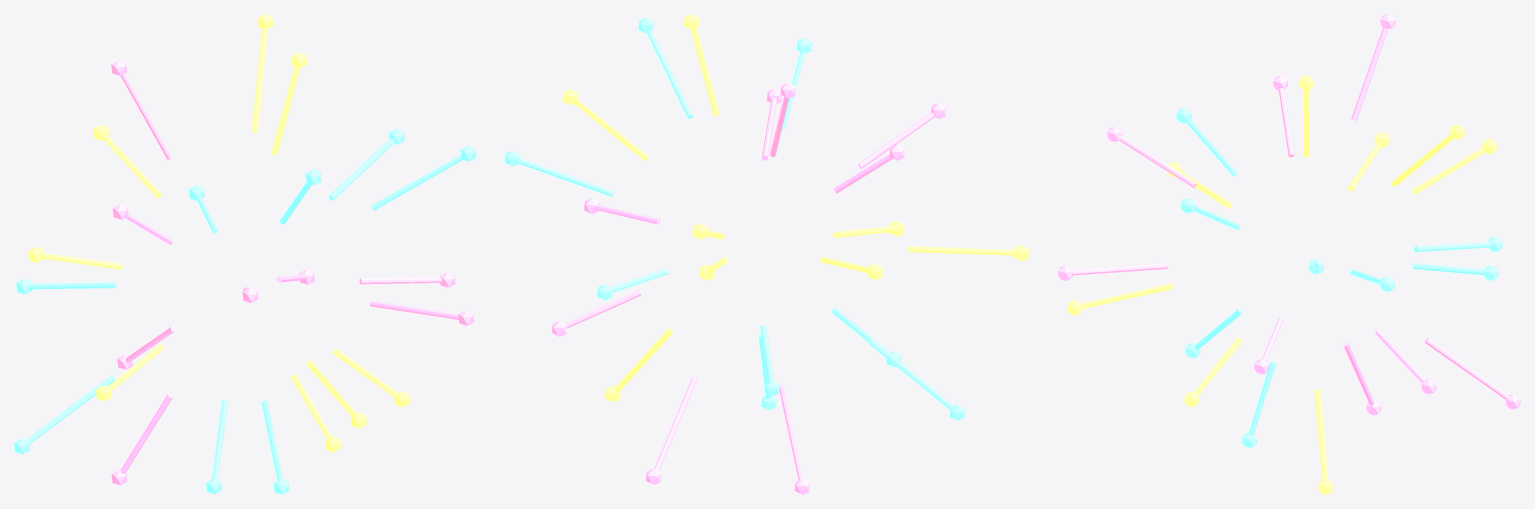
3 renders of one model, left to right at view 1: azimuth 30°, elevation 25°; view 2: azimuth 150°, elevation 25°; view 3: azimuth 270°, elevation 25°, orthographic. The views are drawn at different scales.
Parts seen in each view (by area): view 1: RE-079 Aurora celebration fireworks burst batched; view 2: RE-079 Aurora celebration fireworks burst batched; view 3: RE-079 Aurora celebration fireworks burst batched.
Part boxes in pixels (x1,y1,x2,y2): RE-079 Aurora celebration fireworks burst batched: [14, 14, 476, 494]; RE-079 Aurora celebration fireworks burst batched: [505, 14, 1029, 494]; RE-079 Aurora celebration fireworks burst batched: [1058, 14, 1520, 494].
Bounding box in the file's own units: 2.46 × 2.34 × 2.4.
